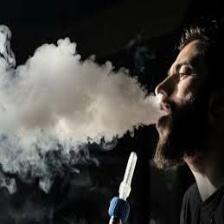smoke: (1, 68, 155, 154)
